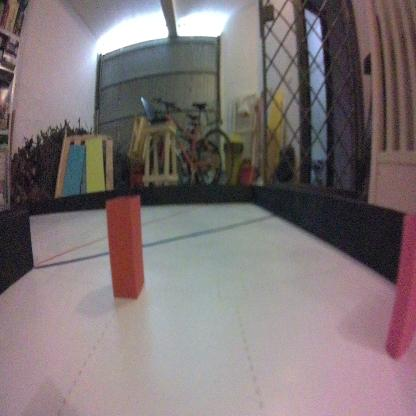magenta: (384, 212, 416, 361)
red: (105, 192, 147, 304)
